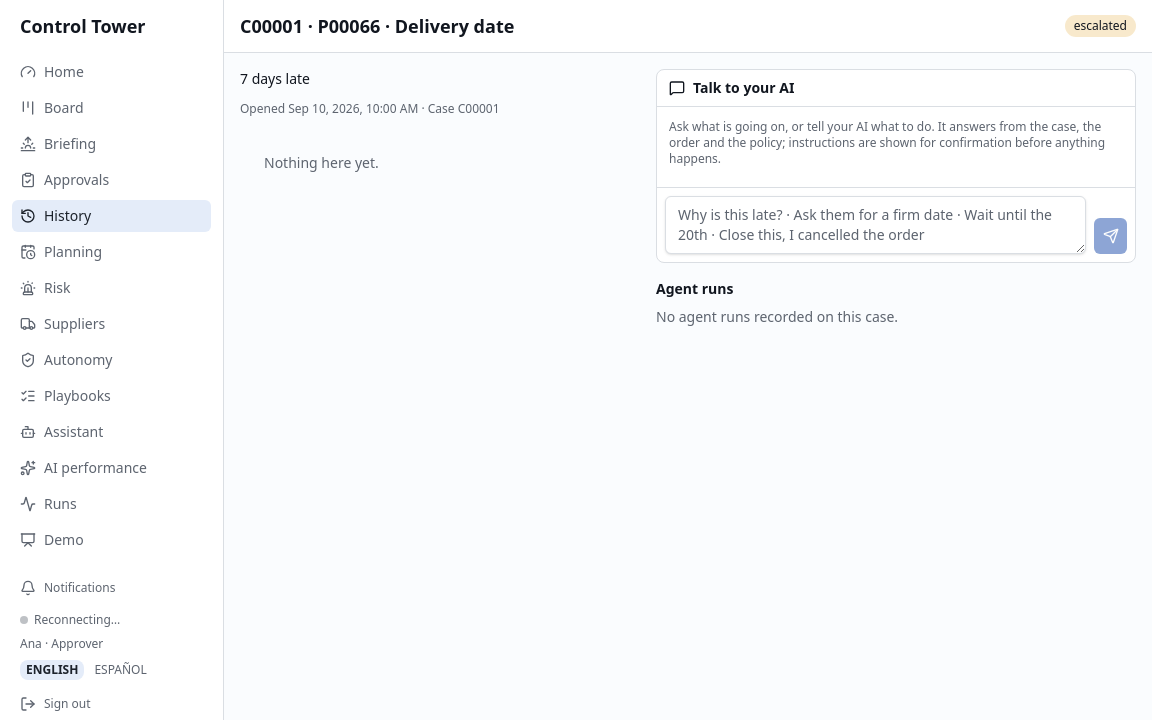
case chat › asks the director, shows the proposed action and confirms it
This screenshot has width=1152, height=720.
Expected: the element "Talk to your AI" shows "Ask what is going on", [669,118,1105,167]
In the text box named "Message to your AI": [876, 225] box [665,196,1086,254], type "Ask them for a firm date"
Then press Enter
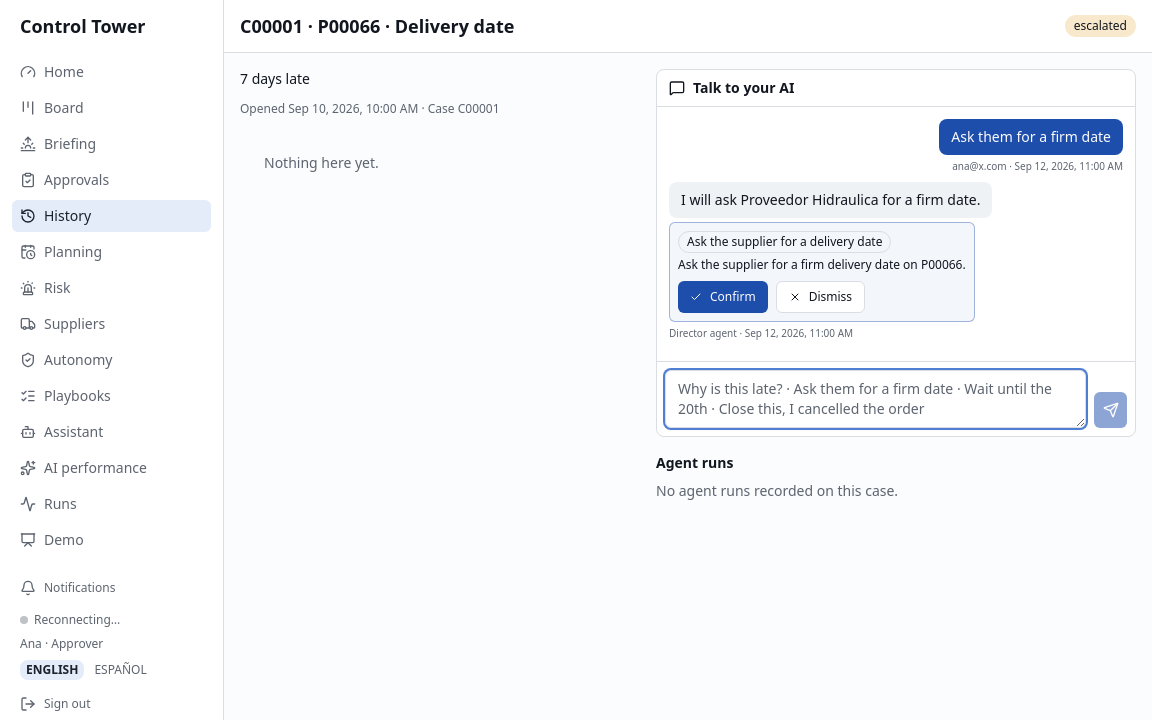
Expected: the text box named "Message to your AI" is empty, [665,370,1086,428]
Result: the element with test id "proposed-action" shows "Ask the supplier for a delivery date" at [687,233,882,250]
Result: the element with test id "proposed-action" shows "Ask the supplier for a firm delivery date on P00066." at [678,256,966,273]
Click the button "Confirm": [723, 297] box [678,281,768,313]
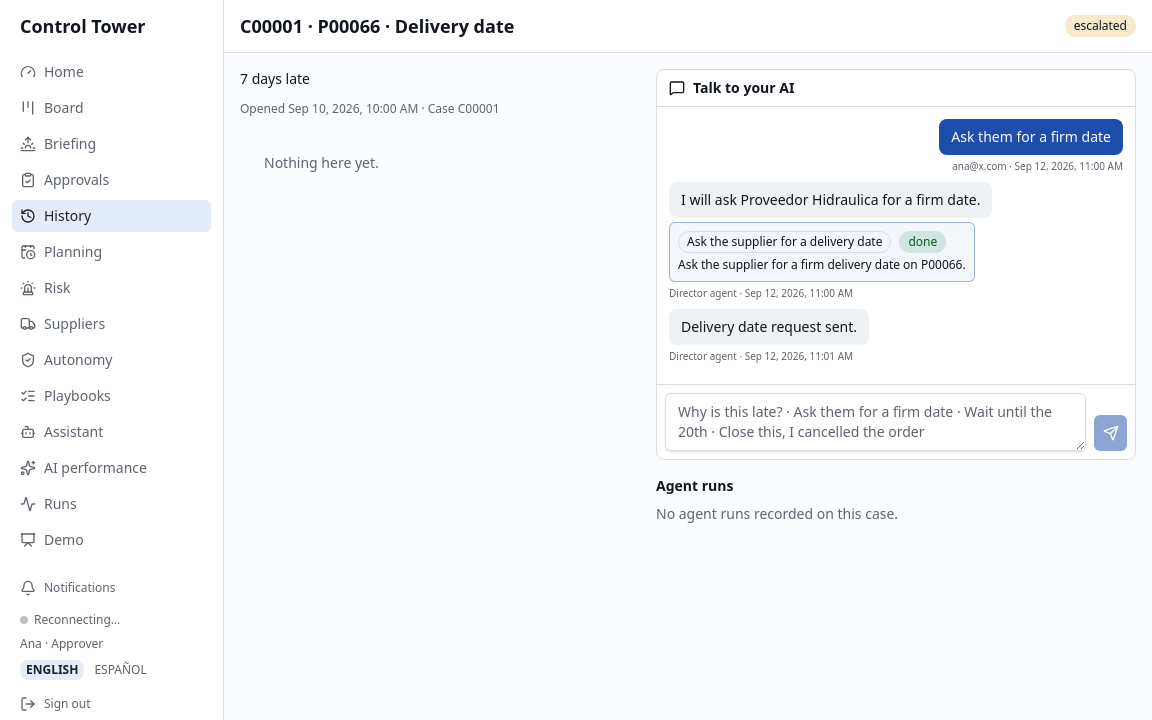
Result: the element "Talk to your AI" shows "Delivery date request sent." at [681,317,857,336]
Result: the text "done" is shown at [900,231,946,253]
Result: the button "Confirm" is gone
